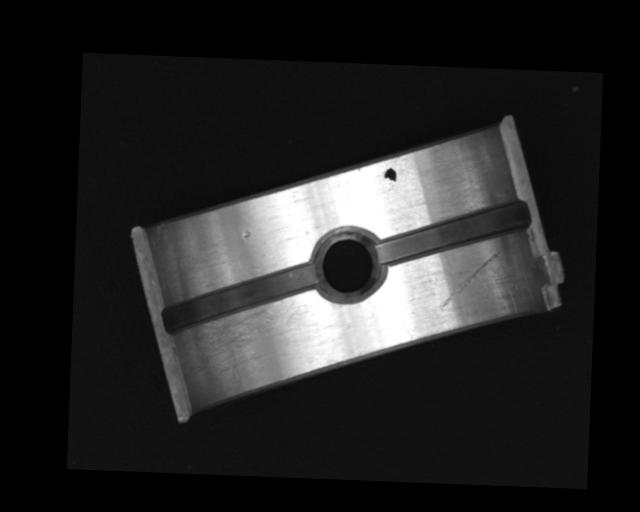blot: (383, 167, 397, 187)
bruise: (241, 229, 251, 239)
gap: (164, 257, 318, 338), (375, 194, 531, 270)
hole: (313, 225, 383, 302)
nick: (439, 249, 501, 313)
scratch: (182, 292, 312, 381)
